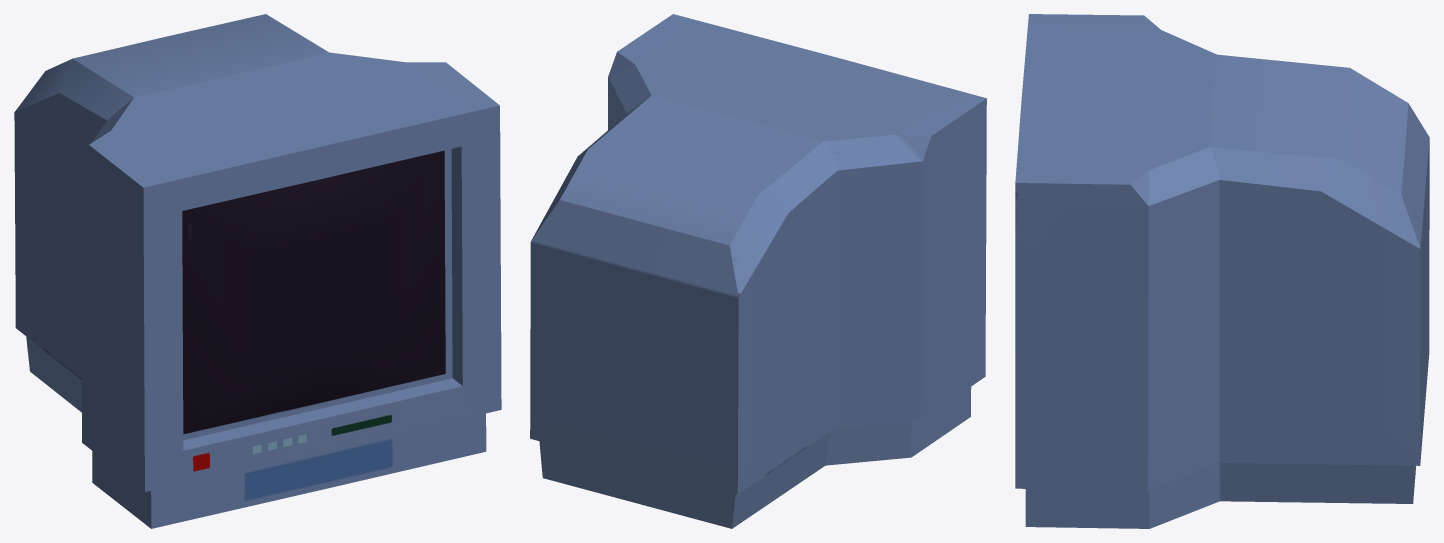
Rendered from monitor_(computer_equipment) computer_monitor_e20ebbfd.glb.
The picture shows the model from 3 angles, left to right: view 1: azimuth 30°, elevation 25°; view 2: azimuth 150°, elevation 25°; view 3: azimuth 270°, elevation 25°; orthographic projection. The views are drawn at different scales.
Visible parts, largest first — view 1: crt_low; view 2: crt_low; view 3: crt_low.
Part boxes in pixels (x1,y1,x2,y2): crt_low: (14,14,501,528); crt_low: (530,14,986,528); crt_low: (1015,14,1429,528).
Size of the model in its own units: 2.03 by 1.9 by 2.04.
Materials: 1 (1 with a texture image).
